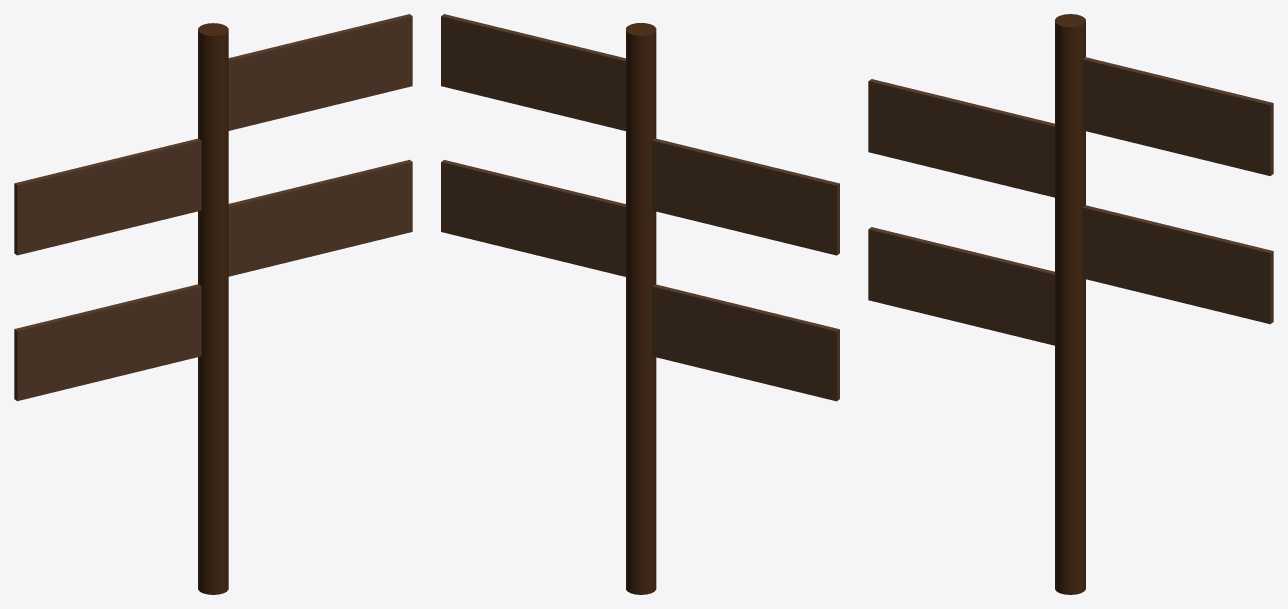
File: sign_4.fbx
The picture shows the model from 3 angles, left to right: view 1: azimuth 30°, elevation 25°; view 2: azimuth 150°, elevation 25°; view 3: azimuth 330°, elevation 25°; orthographic projection.
Visible parts, largest first — view 1: Cylinder001, Box004, Box002, Box001, Box003; view 2: Cylinder001, Box004, Box002, Box001, Box003; view 3: Cylinder001, Box001, Box003, Box004, Box002.
Boxes of the visible parts, x1,y1,x2,y2 form: Cylinder001: (198,23,228,594); Box004: (14,284,201,401); Box002: (14,138,201,255); Box001: (228,14,412,130); Box003: (228,159,412,276); Cylinder001: (626,23,656,594); Box004: (652,284,839,401); Box002: (652,138,839,255); Box001: (441,14,625,130); Box003: (441,160,625,276); Cylinder001: (1055,14,1085,594); Box001: (1082,57,1273,175); Box003: (1082,205,1273,324); Box004: (868,227,1054,345); Box002: (868,79,1054,197).
Size of the model in its own units: 1.48 by 2 by 0.0985.
